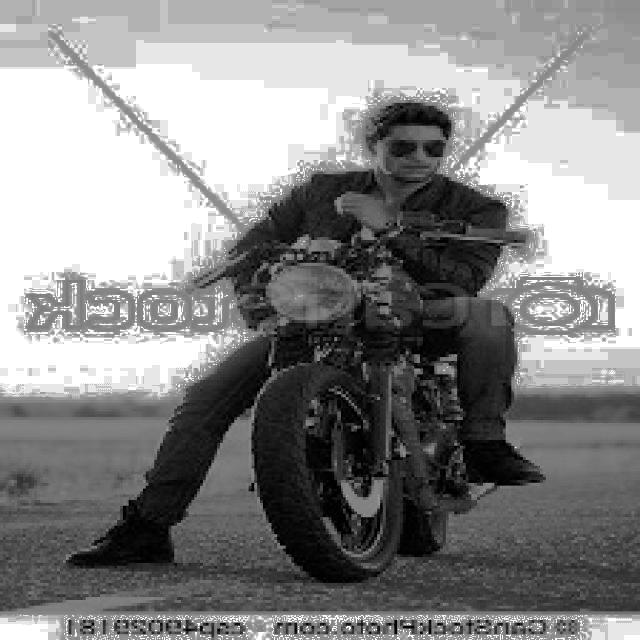Bike: (241, 240, 493, 576)
